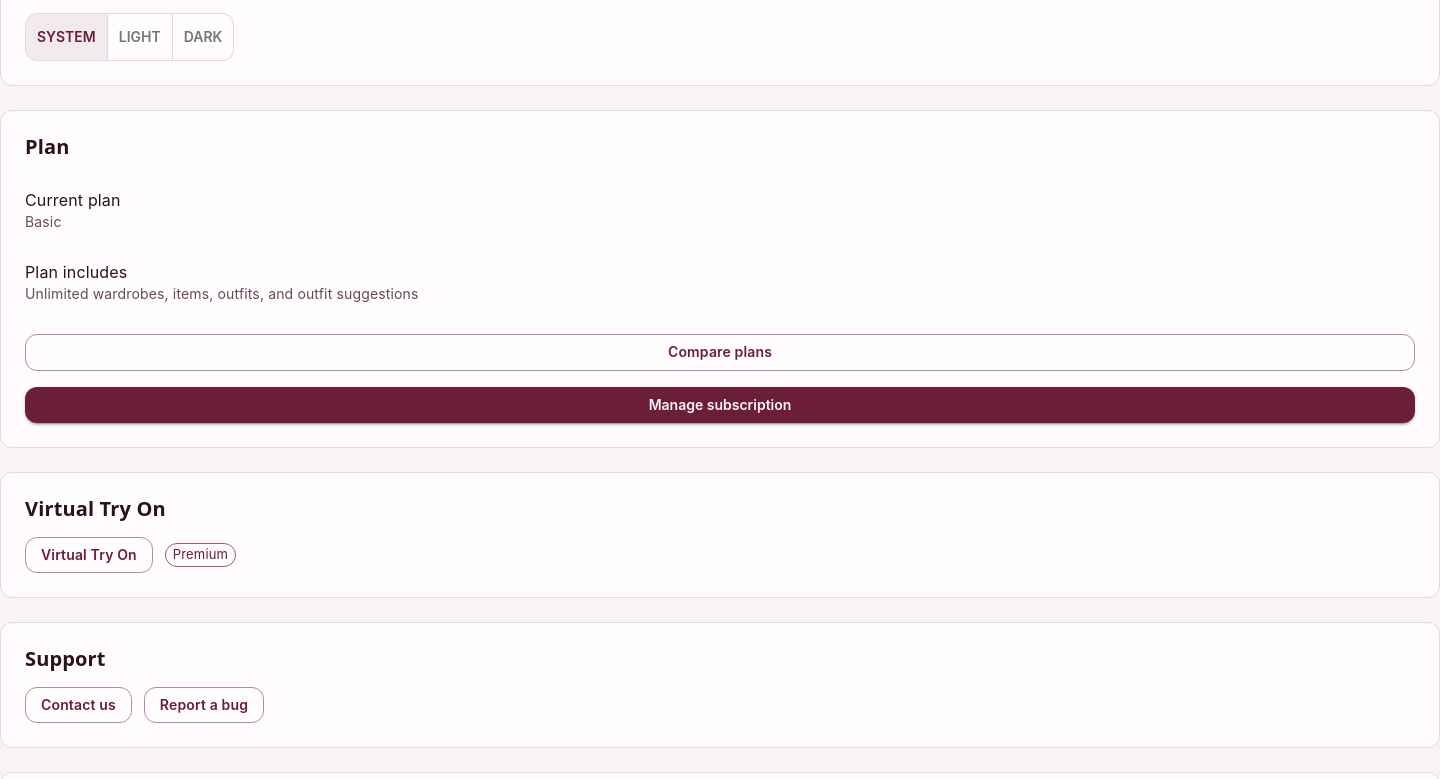
SettingsPage › refreshes /me and shows store copy on 409 NOT_STRIPE_PLAN
(page scrolled)
Click the button "Manage subscription": coordinates (720, 405) [25,387,1415,424]
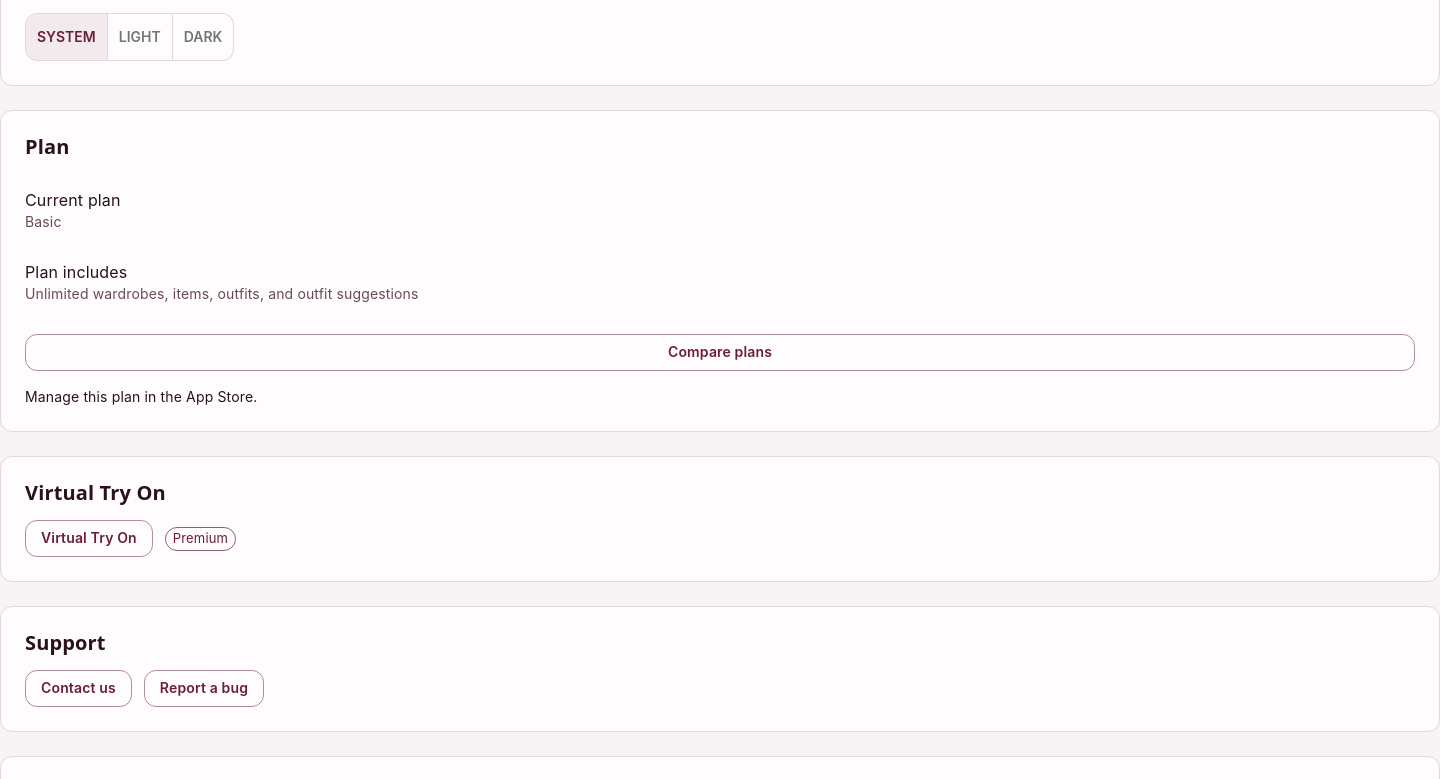
Check: the text "Manage this plan in the App Store." is shown, box [25,388,257,405]
Check: the button "Manage subscription" is gone
